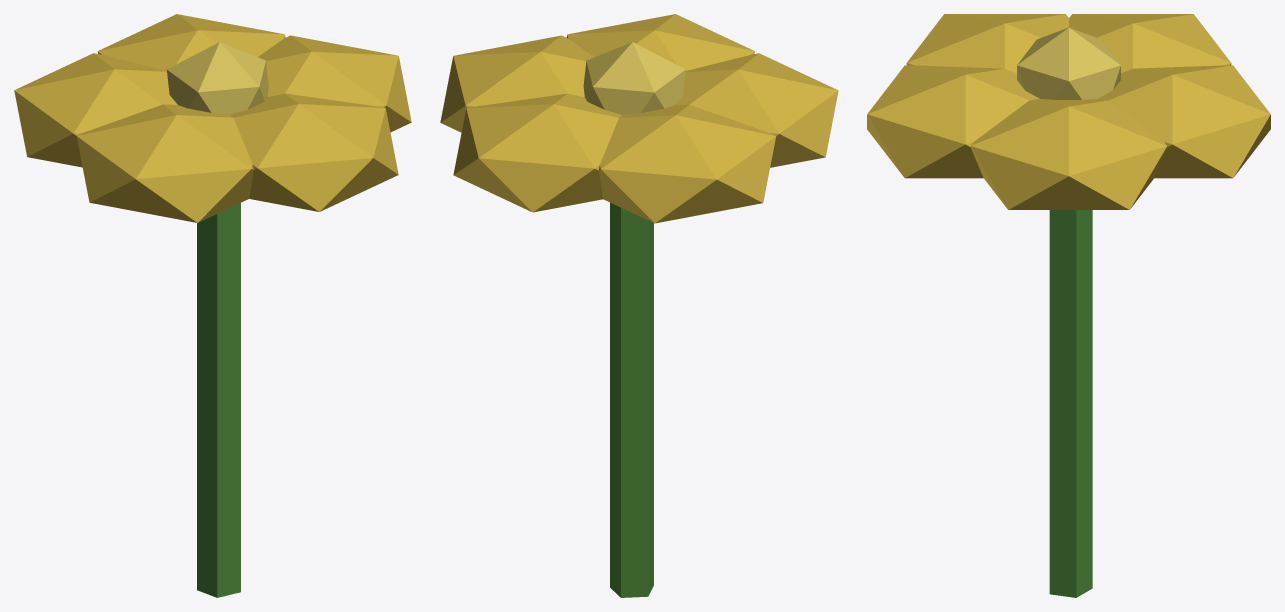
Rendered from flower_yellow.glb.
The picture shows the model from 3 angles, left to right: view 1: azimuth 30°, elevation 25°; view 2: azimuth 150°, elevation 25°; view 3: azimuth 270°, elevation 25°; orthographic projection. The views are drawn at different scales.
Visible parts, largest first — view 1: Cylinder; view 2: Cylinder; view 3: Cylinder.
Boxes of the visible parts, x1=… form: Cylinder: x1=14, y1=14, x2=411, y2=597; Cylinder: x1=440, y1=14, x2=838, y2=597; Cylinder: x1=867, y1=14, x2=1270, y2=597.
Bounding box in the file's own units: 0.2493 × 0.3822 × 0.2493.
